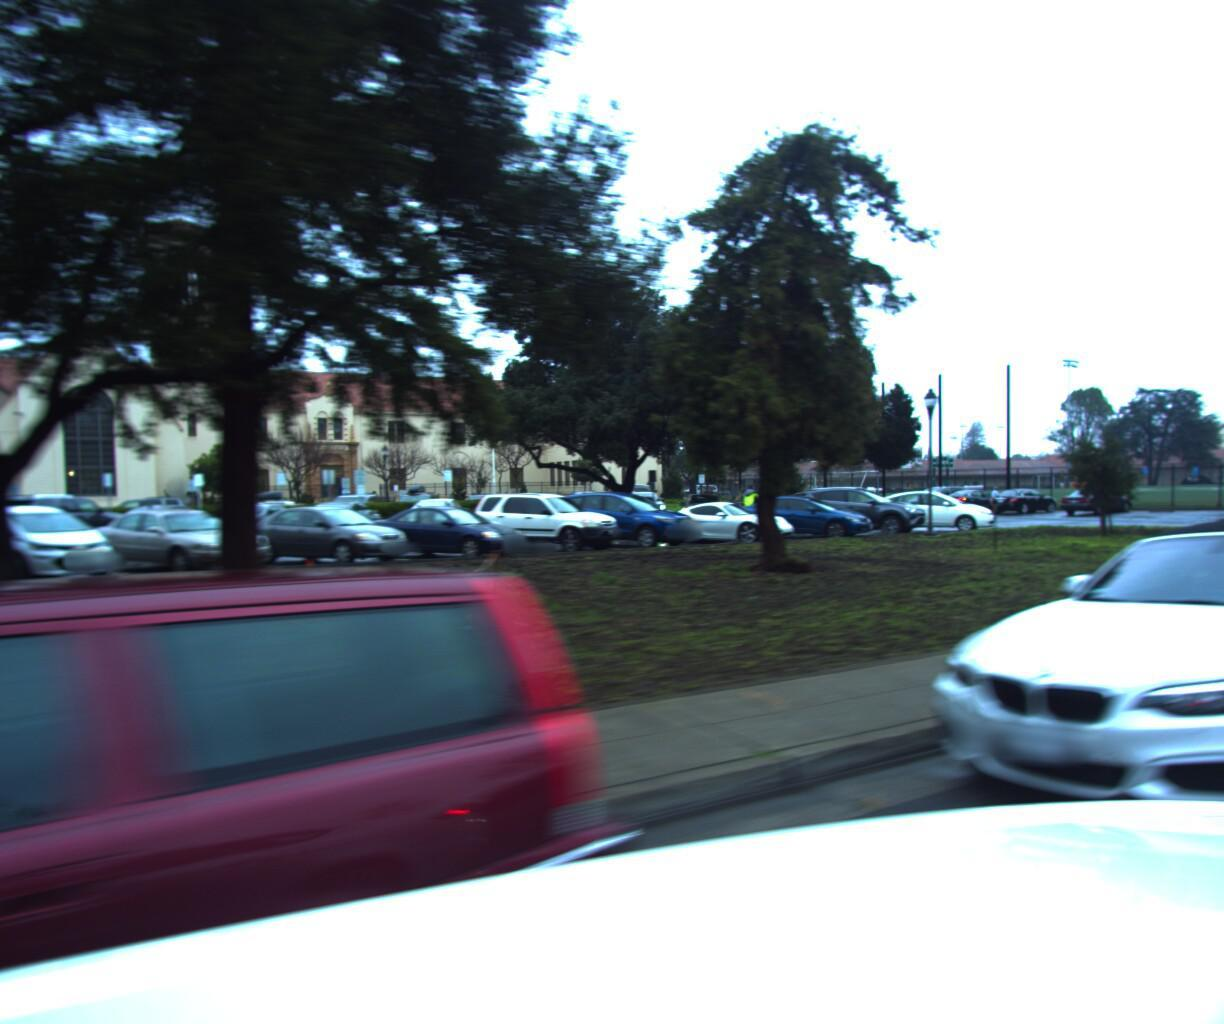car: (837, 500, 1224, 957)
